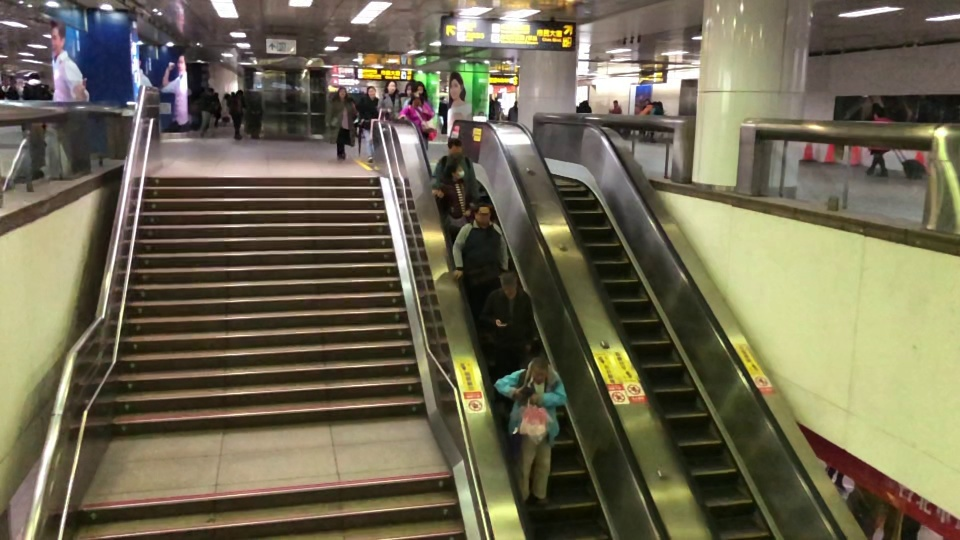person_head: (497, 268, 519, 300), (529, 353, 550, 385), (473, 201, 492, 226), (445, 158, 465, 179), (446, 136, 462, 157), (408, 91, 424, 109), (410, 81, 425, 98), (870, 105, 886, 119), (365, 85, 377, 100), (386, 78, 397, 94), (337, 85, 347, 100), (26, 72, 40, 82), (206, 86, 215, 95), (236, 89, 244, 98), (612, 99, 618, 107)
person_vbox: (492, 354, 568, 507), (478, 271, 534, 377), (450, 204, 509, 291), (439, 161, 476, 244), (432, 136, 479, 200), (864, 103, 896, 178), (398, 92, 435, 151), (328, 86, 356, 160), (355, 86, 378, 163), (228, 88, 248, 139), (376, 79, 401, 119), (196, 86, 215, 138), (21, 72, 52, 101), (606, 99, 622, 115)
